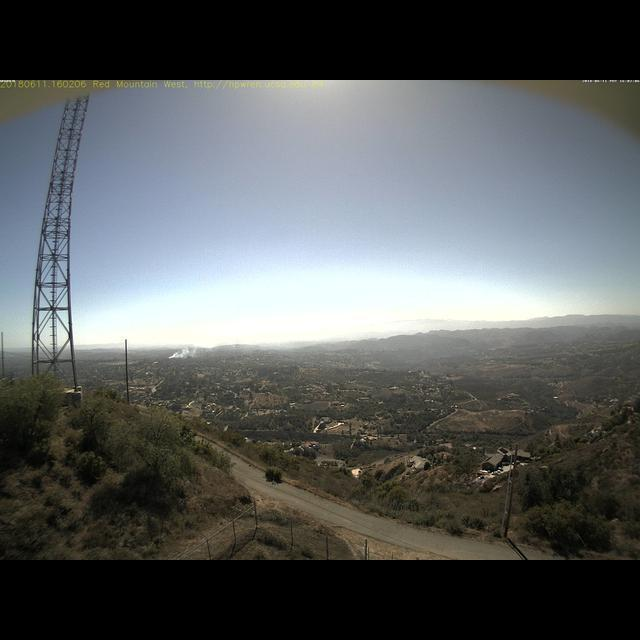Smoke: (167, 333, 212, 358)
